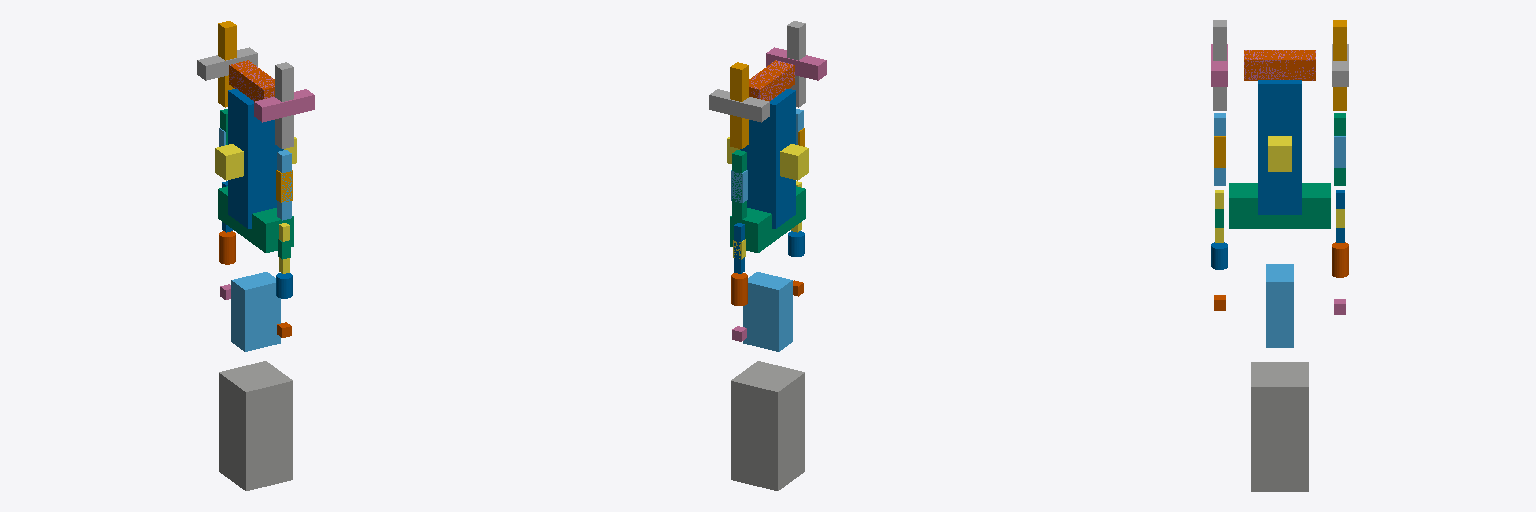
URDF robot description (eu_ca_simple):
<?xml version="1.0"?>
<robot name="eu_ca_simple">

  <!-- Base Link -->
  <link name="base_link">
    <inertial>
      <origin xyz="-0.049255313882523 0.000196071960143074 0.213425482240763" rpy="0 0 0"/>
      <mass value="11.3175558353774"/>
      <inertia ixx="0.111836335964439" ixy="0.000470620704120404" ixz="-0.000232765241992338" iyy="0.218678249504827" iyz="-8.54737917780134E-06" izz="0.312738848370223"/>
    </inertial>
    <visual>
      <origin xyz="0 0 0" rpy="0 0 0"/>
      <geometry>
        <box size="0.2 0.2 0.4"/>
      </geometry>
      <material name="">
        <color rgba="0.666666666666667 0.666666666666667 0.654901960784314 1"/>
      </material>
    </visual>
    <collision>
      <origin xyz="0 0 0" rpy="0 0 0"/>
      <geometry>
        <box size="0.2 0.2 0.4"/>
      </geometry>
    </collision>
  </link>

  <!-- Trunk Chain -->
  <joint name="trunk_joint6" type="fixed">
    <origin xyz="0 0 0.46089582623799" rpy="1.5707963267949 0 3.14159265358979"/>
    <parent link="base_link"/>
    <child link="Empty_Link2"/>
  </joint>
  <link name="Empty_Link2">
    <inertial>
      <origin xyz="-0.0119884043761077 0.190376100518478 -0.00181894906799488" rpy="0 0 0"/>
      <mass value="1.70728538795011"/>
      <inertia ixx="0.0311326842391084" ixy="-8.77435107277125E-06" ixz="-7.9651813244479E-09" iyy="0.00330266664432593" iyz="4.0660855357812E-07" izz="0.032211412706986"/>
    </inertial>
    <visual>
      <origin xyz="0 0 0" rpy="0 0 0"/>
      <geometry>
        <box size="0.15 0.25 0.1"/>
      </geometry>
    </visual>
    <collision>
      <origin xyz="0 0 0" rpy="0 0 0"/>
      <geometry>
        <box size="0.15 0.25 0.1"/>
      </geometry>
    </collision>
  </link>

  <joint name="trunk_joint5" type="fixed">
    <origin xyz="0 0.38 0" rpy="0 0 -1.5707963267949"/>
    <parent link="Empty_Link2"/>
    <child link="Empty_Link3"/>
  </joint>
  <link name="Empty_Link3">
    <inertial>
      <origin xyz="-0.0568093215477271 0.000149668221288127 0.0102594615967493" rpy="0 0 0"/>
      <mass value="1.64351841661813"/>
      <inertia ixx="0.00262601802593485" ixy="4.6092604347849E-06" ixz="3.22435204630522E-06" iyy="0.00880026404947244" iyz="-3.01956623944898E-07" izz="0.00797647893900039"/>
    </inertial>
    <visual>
      <origin xyz="0 0 0" rpy="0 0 0"/>
      <geometry>
        <box size="0.12 0.12 0.35"/>
      </geometry>
    </visual>
    <collision>
      <origin xyz="0 0 0" rpy="0 0 0"/>
      <geometry>
        <box size="0.12 0.12 0.35"/>
      </geometry>
    </collision>
  </link>

  <joint name="trunk_joint4" type="fixed">
    <origin xyz="-0.25 0 0" rpy="0 0 0"/>
    <parent link="Empty_Link3"/>
    <child link="Empty_Link4"/>
  </joint>
  <link name="Empty_Link4">
    <inertial>
      <origin xyz="-0.0119294167989764 -6.08441638944086E-05 0.0031109384248586" rpy="0 0 0"/>
      <mass value="1.15831531918125"/>
      <inertia ixx="0.00157041437031366" ixy="-5.64886341304426E-07" ixz="2.09553813668483E-06" iyy="0.00195332930199091" iyz="-9.10740065921423E-08" izz="0.00199023684426114"/>
    </inertial>
    <visual>
      <origin xyz="0 0 0" rpy="0 0 0"/>
      <geometry>
        <box size="0.1 0.3 0.08"/>
      </geometry>
    </visual>
    <collision>
      <origin xyz="0 0 0" rpy="0 0 0"/>
      <geometry>
        <box size="0.1 0.3 0.08"/>
      </geometry>
    </collision>
  </link>

  <joint name="trunk_joint3" type="fixed">
    <origin xyz="0 0 0" rpy="1.57079632680152 0 -1.57079632678787"/>
    <parent link="Empty_Link4"/>
    <child link="Empty_Link5"/>
  </joint>
  <link name="Empty_Link5">
    <inertial>
      <origin xyz="0.00997378819623554 -8.58966142658795E-06 0.235131299746521" rpy="0 0 0"/>
      <mass value="2.89494705435433"/>
      <inertia ixx="0.0130945547843078" ixy="2.94164113282615E-08" ixz="-8.14469048132725E-05" iyy="0.00723338289336154" iyz="1.24536819352601E-06" izz="0.00876543379861151"/>
    </inertial>
    <visual>
      <origin xyz="0 0 0" rpy="0 0 0"/>
      <geometry>
        <box size="0.15 0.15 0.5"/>
      </geometry>
    </visual>
    <collision>
      <origin xyz="0 0 0" rpy="0 0 0"/>
      <geometry>
        <box size="0.15 0.15 0.5"/>
      </geometry>
    </collision>
  </link>

  <!-- Right Arm -->
  <joint name="right_hand_joint1" type="revolute">
    <origin xyz="0 0 0.285" rpy="1.5707963267949 0 0"/>
    <parent link="Empty_Link5"/>
    <child link="Empty_Link8"/>
    <axis xyz="0 0 1"/>
    <limit lower="-2.96" upper="2.96" effort="38" velocity="0.314"/>
  </joint>
  <link name="Empty_Link8">
    <inertial>
      <origin xyz="0.0043424291118179 0.00284600113250422 0.205550693167581" rpy="0 0 0"/>
      <mass value="0.418423188271893"/>
      <inertia ixx="0.000366045964377268" ixy="-6.31377373728575E-07" ixz="2.30118439169344E-06" iyy="0.000393387219375992" iyz="2.23198475497399E-05" izz="0.000357862564824618"/>
    </inertial>
    <visual><geometry><box size="0.08 0.08 0.25"/></geometry></visual>
    <collision><geometry><box size="0.08 0.08 0.25"/></geometry></collision>
  </link>

  <joint name="right_hand_joint2" type="revolute">
    <origin xyz="0 0 0.208000000000026" rpy="-1.5707963267949 0 -1.5707963267949"/>
    <parent link="Empty_Link8"/>
    <child link="Empty_Link9"/>
    <axis xyz="0 0 1"/>
    <limit lower="-1.5707" upper="0.0" effort="38" velocity="0.314"/>
  </joint>
  <link name="Empty_Link9">
    <inertial>
      <origin xyz="0.151930645298268 -0.000792240146015172 0.000505525969265391" rpy="0 0 0"/>
      <mass value="0.630215509079325"/>
      <inertia ixx="0.000567466789484707" ixy="-3.96811609965575E-05" ixz="3.40110097933088E-06" iyy="0.00189013621027013" iyz="-1.08819276015692E-07" izz="0.00203912799641635"/>
    </inertial>
    <visual><geometry><box size="0.06 0.06 0.22"/></geometry></visual>
    <collision><geometry><box size="0.06 0.06 0.22"/></geometry></collision>
  </link>

  <joint name="right_hand_joint3" type="revolute">
    <origin xyz="0 0 0" rpy="1.5707963267949 0 1.5707963267949"/>
    <parent link="Empty_Link9"/>
    <child link="Empty_Link10"/>
    <axis xyz="0 0 1"/>
    <limit lower="-2.96" upper="2.96" effort="14" velocity="0.314"/>
  </joint>
  <link name="Empty_Link10">
    <inertial>
      <origin xyz="0.00189089064223849 -5.94931067023599E-05 0.308926917504455" rpy="0 0 0"/>
      <mass value="0.427666453741694"/>
      <inertia ixx="0.000381666483468663" ixy="5.17340777752084E-08" ixz="6.72900510466479E-07" iyy="0.000479160534597976" iyz="-1.91483911561173E-07" izz="0.000331684821366185"/>
    </inertial>
    <visual><geometry><box size="0.05 0.05 0.32"/></geometry></visual>
    <collision><geometry><box size="0.05 0.05 0.32"/></geometry></collision>
  </link>

  <joint name="right_hand_joint4" type="revolute">
    <origin xyz="0 0 0.32" rpy="-1.5707963267949 0 -1.5707963267949"/>
    <parent link="Empty_Link10"/>
    <child link="Empty_Link11"/>
    <axis xyz="0 0 1"/>
    <limit lower="-1.92" upper="0" effort="14" velocity="0.471"/>
  </joint>
  <link name="Empty_Link11">
    <inertial>
      <origin xyz="0.00198939936571961 -0.107344776245293 1.97827190209776E-05" rpy="0 0 0"/>
      <mass value="0.319296036498841"/>
      <inertia ixx="0.000903161804564062" ixy="-2.82868911803954E-05" ixz="1.38361338121601E-07" iyy="0.000230331928798329" iyz="-2.21818126731403E-06" izz="0.00095047403699994"/>
    </inertial>
    <visual><geometry><box size="0.05 0.12 0.04"/></geometry></visual>
    <collision><geometry><box size="0.05 0.12 0.04"/></geometry></collision>
  </link>

  <joint name="right_hand_joint5" type="revolute">
    <origin xyz="0 0 0" rpy="-1.5707963267949 0 3.14159265358979"/>
    <parent link="Empty_Link11"/>
    <child link="Empty_Link12"/>
    <axis xyz="0 0 1"/>
    <limit lower="-2.96" upper="2.96" effort="6" velocity="0.628"/>
  </joint>
  <link name="Empty_Link12">
    <inertial>
      <origin xyz="1.14581233320105E-05 -0.0021054413360338 0.248259456150338" rpy="0 0 0"/>
      <mass value="0.103455165803168"/>
      <inertia ixx="6.40555630598909E-05" ixy="2.09864588929785E-10" ixz="1.78590449062202E-07" iyy="5.44690543661034E-05" iyz="-1.50777638404227E-08" izz="4.21358762031202E-05"/>
    </inertial>
    <visual><geometry><box size="0.04 0.04 0.26"/></geometry></visual>
    <collision><geometry><box size="0.04 0.04 0.26"/></geometry></collision>
  </link>

  <joint name="right_hand_joint6" type="revolute">
    <origin xyz="0 0 0.255" rpy="-1.5707963267949 0 3.14159265358979"/>
    <parent link="Empty_Link12"/>
    <child link="Empty_Link13"/>
    <axis xyz="0 0 1"/>
    <limit lower="-1.57" upper="1.57" effort="6" velocity="0.628"/>
  </joint>
  <link name="Empty_Link13">
    <inertial>
      <origin xyz="-1.28695047440807E-05 -0.0634685131762733 0.00022329627062706" rpy="0 0 0"/>
      <mass value="0.17069457699525"/>
      <inertia ixx="0.000155425838113604" ixy="8.24079652136354E-09" ixz="3.30415727791502E-08" iyy="0.000101034887094148" iyz="-4.88608807345576E-07" izz="0.00017012361888522"/>
    </inertial>
    <visual><geometry><box size="0.035 0.07 0.03"/></geometry></visual>
    <collision><geometry><box size="0.035 0.07 0.03"/></geometry></collision>
  </link>

  <joint name="right_hand_joint7" type="revolute">
    <origin xyz="0 0 0" rpy="1.5707963267949 0 0"/>
    <parent link="Empty_Link13"/>
    <child link="Empty_Link14"/>
    <axis xyz="0 0 1"/>
    <limit lower="-2.96" upper="2.96" effort="6" velocity="0.628"/>
  </joint>
  <link name="Empty_Link14">
    <inertial>
      <origin xyz="-0.00348827263506496 -0.0134836937171016 0.182156338426436" rpy="0 0 0"/>
      <mass value="0.196505568850148"/>
      <inertia ixx="7.00658720696347E-05" ixy="3.70330815610975E-06" ixz="2.60925915075957E-07" iyy="5.67813011710439E-05" iyz="-2.54443716268052E-06" izz="8.74264467169034E-05"/>
    </inertial>
    <visual><geometry><box size="0.03 0.03 0.19"/></geometry></visual>
    <collision><geometry><box size="0.03 0.03 0.19"/></geometry></collision>
  </link>

  <joint name="right_hand_joint8" type="fixed">
    <origin xyz="0 0 0.15" rpy="0 0 0"/>
    <parent link="Empty_Link14"/>
    <child link="Right_Force_Sensor"/>
  </joint>
  <link name="Right_Force_Sensor">
    <inertial>
      <mass value="0.196505568850148"/>
      <inertia ixx="5.67813011710439E-05" ixy="-3.70330815610975E-06" ixz="-2.54443716268052E-06" iyy="7.00658720696347E-05" iyz="-2.60925915075958E-07" izz="8.74264467169034E-05"/>
    </inertial>
    <visual><geometry><cylinder radius="0.03" length="0.08"/></geometry></visual>
    <collision><geometry><cylinder radius="0.03" length="0.08"/></geometry></collision>
  </link>

  <joint name="right_hand_joint9" type="fixed">
    <origin xyz="0 0 0.18" rpy="0 0 0"/>
    <parent link="Right_Force_Sensor"/>
    <child link="Empty_LinkREND"/>
  </joint>
  <link name="Empty_LinkREND">
    <inertial>
      <mass value="0.196505568850148"/>
      <inertia ixx="5.67813011710439E-05" ixy="-3.70330815610975E-06" ixz="-2.54443716268052E-06" iyy="7.00658720696347E-05" iyz="-2.60925915075958E-07" izz="8.74264467169034E-05"/>
    </inertial>
    <visual><geometry><box size="0.04 0.04 0.04"/></geometry></visual>
    <collision><geometry><box size="0.04 0.04 0.04"/></geometry></collision>
  </link>

  <!-- Left Arm -->
  <joint name="left_hand_joint1" type="revolute">
    <origin xyz="0 0 0.285" rpy="1.5707963267949 0 3.14159265358979"/>
    <parent link="Empty_Link5"/>
    <child link="Empty_Link15"/>
    <axis xyz="0 0 1"/>
    <limit lower="-2.96" upper="2.96" effort="38" velocity="0.314"/>
  </joint>
  <link name="Empty_Link15">
    <inertial>
      <origin xyz="-0.00439343898558235 0.00279375882056232 0.205599415315399" rpy="0 0 0"/>
      <mass value="0.417734645958504"/>
      <inertia ixx="0.000366058769801472" ixy="8.16370939828445E-07" ixz="-2.30170544742616E-06" iyy="0.000393381918502447" iyz="2.2010835659126E-05" izz="0.000357842772918243"/>
    </inertial>
    <visual><geometry><box size="0.08 0.08 0.25"/></geometry></visual>
    <collision><geometry><box size="0.08 0.08 0.25"/></geometry></collision>
  </link>

  <joint name="left_hand_joint2" type="revolute">
    <origin xyz="0 0 0.207999999999974" rpy="-1.5707963267949 0 1.57079632679497"/>
    <parent link="Empty_Link15"/>
    <child link="Empty_Link16"/>
    <axis xyz="0 0 1"/>
    <limit lower="0.0" upper="1.5707" effort="38" velocity="0.314"/>
  </joint>
  <link name="Empty_Link16">
    <inertial>
      <origin xyz="-0.15192865658136 -0.000812858824703805 0.000505316290676953" rpy="0 0 0"/>
      <mass value="0.630234104556976"/>
      <inertia ixx="0.000567523064589663" ixy="3.99694461544851E-05" ixz="-3.36551840391396E-06" iyy="0.00188952649357403" iyz="-2.24671544134491E-08" izz="0.00203975375615836"/>
    </inertial>
    <visual><geometry><box size="0.06 0.06 0.22"/></geometry></visual>
    <collision><geometry><box size="0.06 0.06 0.22"/></geometry></collision>
  </link>

  <joint name="left_hand_joint3" type="revolute">
    <origin xyz="0 0 0" rpy="-1.5707963267949 0 1.57079632679488"/>
    <parent link="Empty_Link16"/>
    <child link="Empty_Link17"/>
    <axis xyz="0 0 1"/>
    <limit lower="-2.96" upper="2.96" effort="14" velocity="0.314"/>
  </joint>
  <link name="Empty_Link17">
    <inertial>
      <origin xyz="0.00189641601205137 7.13807334790626E-05 0.308921467924966" rpy="0 0 0"/>
      <mass value="0.427557971430239"/>
      <inertia ixx="0.000381525895262719" ixy="1.22017454514293E-07" ixz="5.74738125137757E-07" iyy="0.00047891748634507" iyz="2.86008265840271E-07" izz="0.000331569803228971"/>
    </inertial>
    <visual><geometry><box size="0.05 0.05 0.32"/></geometry></visual>
    <collision><geometry><box size="0.05 0.05 0.32"/></geometry></collision>
  </link>

  <joint name="left_hand_joint4" type="revolute">
    <origin xyz="0 0 0.32" rpy="-1.5707963267949 0 -1.57079632679497"/>
    <parent link="Empty_Link17"/>
    <child link="Empty_Link18"/>
    <axis xyz="0 0 1"/>
    <limit lower="0.0" upper="1.92" effort="14" velocity="0.471"/>
  </joint>
  <link name="Empty_Link18">
    <inertial>
      <origin xyz="-0.0019887090589124 -0.107357273861402 4.28350738395922E-05" rpy="0 0 0"/>
      <mass value="0.319299509037186"/>
      <inertia ixx="0.000903320745774386" ixy="2.8307372170676E-05" ixz="-1.75316088110022E-08" iyy="0.000230353412775888" iyz="-2.2579953000122E-06" izz="0.000950613336654676"/>
    </inertial>
    <visual><geometry><box size="0.05 0.12 0.04"/></geometry></visual>
    <collision><geometry><box size="0.05 0.12 0.04"/></geometry></collision>
  </link>

  <joint name="left_hand_joint5" type="revolute">
    <origin xyz="0 0 0" rpy="1.5707963267949 0 0"/>
    <parent link="Empty_Link18"/>
    <child link="Empty_Link19"/>
    <axis xyz="0 0 1"/>
    <limit lower="-2.96" upper="2.96" effort="6" velocity="0.628"/>
  </joint>
  <link name="Empty_Link19">
    <inertial>
      <origin xyz="-1.07077344517225E-05 0.00192350544852918 0.248259227651157" rpy="0 0 0"/>
      <mass value="0.103464369716057"/>
      <inertia ixx="6.40633741682632E-05" ixy="3.86813075222142E-09" ixz="1.34706780739284E-07" iyy="5.44668286246404E-05" iyz="1.66063048758032E-08" izz="4.21410643980045E-05"/>
    </inertial>
    <visual><geometry><box size="0.04 0.04 0.26"/></geometry></visual>
    <collision><geometry><box size="0.04 0.04 0.26"/></geometry></collision>
  </link>

  <joint name="left_hand_joint6" type="revolute">
    <origin xyz="0 0 0.255" rpy="1.5707963267949 0 -3.14159265358976"/>
    <parent link="Empty_Link19"/>
    <child link="Empty_Link20"/>
    <axis xyz="0 0 1"/>
    <limit lower="-1.57" upper="1.57" effort="6" velocity="0.628"/>
  </joint>
  <link name="Empty_Link20">
    <inertial>
      <origin xyz="-1.30336117776242E-05 0.0634689741505922 -0.000519208991700187" rpy="0 0 0"/>
      <mass value="0.170690108895557"/>
      <inertia ixx="0.000155420545389057" ixy="3.37908680494501E-09" ixz="-3.09229660209241E-08" iyy="0.000101030048832309" iyz="5.06941790729488E-07" izz="0.000170115428796007"/>
    </inertial>
    <visual><geometry><box size="0.035 0.07 0.03"/></geometry></visual>
    <collision><geometry><box size="0.035 0.07 0.03"/></geometry></collision>
  </link>

  <joint name="left_hand_joint7" type="revolute">
    <origin xyz="0 0 0" rpy="-1.5707963267949 0 0"/>
    <parent link="Empty_Link20"/>
    <child link="Empty_Link21"/>
    <axis xyz="0 0 1"/>
    <limit lower="-2.96" upper="2.0" effort="6" velocity="0.628"/>
  </joint>
  <link name="Empty_Link21">
    <inertial>
      <mass value="0.196505568850148"/>
      <inertia ixx="7.00658720696347E-05" ixy="3.70330815610975E-06" ixz="2.60925915075957E-07" iyy="5.67813011710439E-05" iyz="-2.54443716268052E-06" izz="8.74264467169034E-05"/>
    </inertial>
    <visual><geometry><box size="0.03 0.03 0.19"/></geometry></visual>
    <collision><geometry><box size="0.03 0.03 0.19"/></geometry></collision>
  </link>

  <joint name="left_hand_joint8" type="fixed">
    <origin xyz="0 0 0.165" rpy="0 0 0"/>
    <parent link="Empty_Link21"/>
    <child link="Left_Force_Sensor"/>
  </joint>
  <link name="Left_Force_Sensor">
    <inertial>
      <mass value="0.196505568850148"/>
      <inertia ixx="5.67813011710439E-05" ixy="-3.70330815610975E-06" ixz="-2.54443716268052E-06" iyy="7.00658720696347E-05" iyz="-2.60925915075958E-07" izz="8.74264467169034E-05"/>
    </inertial>
    <visual><geometry><cylinder radius="0.03" length="0.11"/></geometry></visual>
    <collision><geometry><cylinder radius="0.03" length="0.11"/></geometry></collision>
  </link>

  <joint name="left_hand_joint9" type="fixed">
    <origin xyz="0 0 0.18" rpy="0 0 0"/>
    <parent link="Left_Force_Sensor"/>
    <child link="Empty_LinkLEND"/>
  </joint>
  <link name="Empty_LinkLEND">
    <inertial>
      <mass value="0.196505568850148"/>
      <inertia ixx="5.67813011710439E-05" ixy="-3.70330815610975E-06" ixz="-2.54443716268052E-06" iyy="7.00658720696347E-05" iyz="-2.60925915075958E-07" izz="8.74264467169034E-05"/>
    </inertial>
    <visual><geometry><box size="0.04 0.04 0.04"/></geometry></visual>
    <collision><geometry><box size="0.04 0.04 0.04"/></geometry></collision>
  </link>

</robot>

--- What the picture shows (computed from the rendered views, not written in the file) ---
The picture shows the robot from 3 angles, left to right: view 1: azimuth 30°, elevation 25°; view 2: azimuth 150°, elevation 25°; view 3: azimuth 270°, elevation 25°; orthographic projection.
Model eu_ca_simple with 23 links and 22 joints (14 revolute, 8 fixed), rooted at base_link, posed all joints at 0.
Links seen in each view (by area): view 1: base_link, Empty_Link5, Empty_Link2, Empty_Link3, Empty_Link10, Empty_Link9, Empty_Link8, Empty_Link4, Empty_Link17, Empty_Link16, Empty_Link12, Left_Force_Sensor; view 2: base_link, Empty_Link5, Empty_Link2, Empty_Link3, Empty_Link17, Empty_Link16, Empty_Link4, Empty_Link10, Empty_Link8, Empty_Link9, Empty_Link19, Left_Force_Sensor; view 3: base_link, Empty_Link5, Empty_Link3, Empty_Link2, Empty_Link8, Empty_Link10, Empty_Link17, Empty_Link4, Left_Force_Sensor.
Link boxes in pixels (x1,y1,x2,y2): base_link: (219, 361, 292, 490); Empty_Link5: (228, 89, 283, 228); Empty_Link2: (231, 272, 280, 351); Empty_Link3: (218, 186, 293, 252); Empty_Link10: (275, 62, 293, 148); Empty_Link9: (254, 89, 314, 122); Empty_Link8: (229, 60, 274, 101); Empty_Link4: (215, 137, 296, 180); Empty_Link17: (218, 21, 236, 107); Empty_Link16: (197, 47, 257, 80); Empty_Link12: (277, 150, 291, 220); Left_Force_Sensor: (219, 231, 235, 264); base_link: (731, 361, 804, 490); Empty_Link5: (740, 89, 795, 228); Empty_Link2: (743, 272, 792, 351); Empty_Link3: (730, 186, 805, 252); Empty_Link17: (730, 62, 748, 148); Empty_Link16: (709, 89, 769, 122); Empty_Link4: (727, 137, 808, 180); Empty_Link10: (787, 21, 805, 107); Empty_Link8: (749, 60, 794, 100); Empty_Link9: (766, 47, 826, 80); Empty_Link19: (732, 150, 746, 220); Left_Force_Sensor: (731, 273, 747, 305); base_link: (1251, 362, 1308, 491); Empty_Link5: (1258, 80, 1301, 214); Empty_Link3: (1229, 183, 1330, 228); Empty_Link2: (1266, 264, 1293, 347); Empty_Link8: (1244, 50, 1315, 80); Empty_Link10: (1213, 20, 1226, 110); Empty_Link17: (1333, 20, 1346, 110); Empty_Link4: (1268, 136, 1291, 171); Left_Force_Sensor: (1332, 242, 1348, 277).
Bounding box of the posed robot: 0.3 × 0.476 × 1.74 m (x, y, z).
Geometry: primitives only (box / cylinder / sphere), no mesh files.
